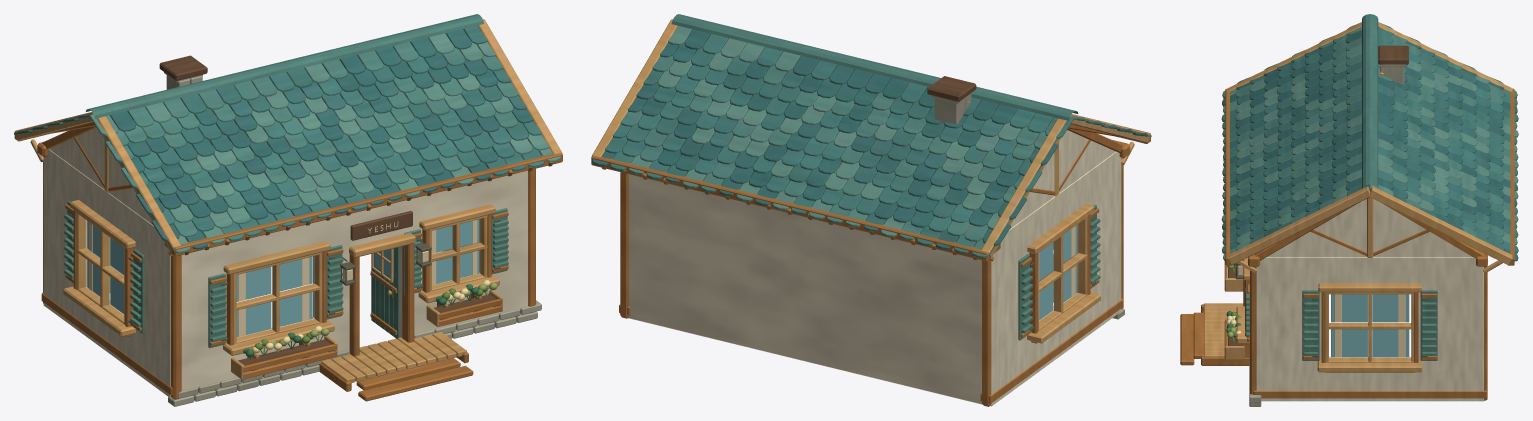
File: cottage.glb
3 renders of one model, left to right at view 1: azimuth 30°, elevation 25°; view 2: azimuth 150°, elevation 25°; view 3: azimuth 270°, elevation 25°, orthographic. The views are drawn at different scales.
Visible parts, largest first — view 1: roof__Cottage_Exterior_Study, front__Cottage_Exterior_Study, left__Cottage_Exterior_Study, base__Cottage_Exterior_Study, front__Detail_Sea glass, door__Cottage_Exterior_Study, front__Detail_Linen behind glass, left__Detail_Sea glass, right__Cottage_Exterior_Study, front__Detail_Oxidized bronze hardware; view 2: roof__Cottage_Exterior_Study, back__Cottage_Exterior_Study, left__Cottage_Exterior_Study, left__Detail_Sea glass, right__Cottage_Exterior_Study; view 3: roof__Cottage_Exterior_Study, right__Cottage_Exterior_Study, right__Detail_Sea glass, base__Cottage_Exterior_Study, front__Cottage_Exterior_Study, right__Detail_Linen behind glass.
Part boxes in pixels (<box>): roof__Cottage_Exterior_Study: <box>14,14,562,256</box>; front__Cottage_Exterior_Study: <box>172,170,527,398</box>; left__Cottage_Exterior_Study: <box>41,149,181,399</box>; base__Cottage_Exterior_Study: <box>168,300,541,406</box>; front__Detail_Sea glass: <box>236,219,479,337</box>; door__Cottage_Exterior_Study: <box>370,247,399,338</box>; front__Detail_Linen behind glass: <box>238,220,477,336</box>; left__Detail_Sea glass: <box>87,221,123,313</box>; right__Cottage_Exterior_Study: <box>442,168,535,306</box>; front__Detail_Oxidized bronze hardware: <box>221,219,500,341</box>; roof__Cottage_Exterior_Study: <box>591,14,1151,261</box>; back__Cottage_Exterior_Study: <box>628,174,982,404</box>; left__Cottage_Exterior_Study: <box>980,151,1123,406</box>; left__Detail_Sea glass: <box>1039,225,1076,320</box>; right__Cottage_Exterior_Study: <box>619,172,630,318</box>; roof__Cottage_Exterior_Study: <box>1221,14,1518,272</box>; right__Cottage_Exterior_Study: <box>1250,257,1487,401</box>; right__Detail_Sea glass: <box>1331,294,1409,357</box>; base__Cottage_Exterior_Study: <box>1180,303,1261,406</box>; front__Cottage_Exterior_Study: <box>1224,257,1249,359</box>; right__Detail_Linen behind glass: <box>1334,294,1405,357</box>.
Bounding box in the file's own units: 10.97 × 7.04 × 9.05.
10 materials, 1 textured.
